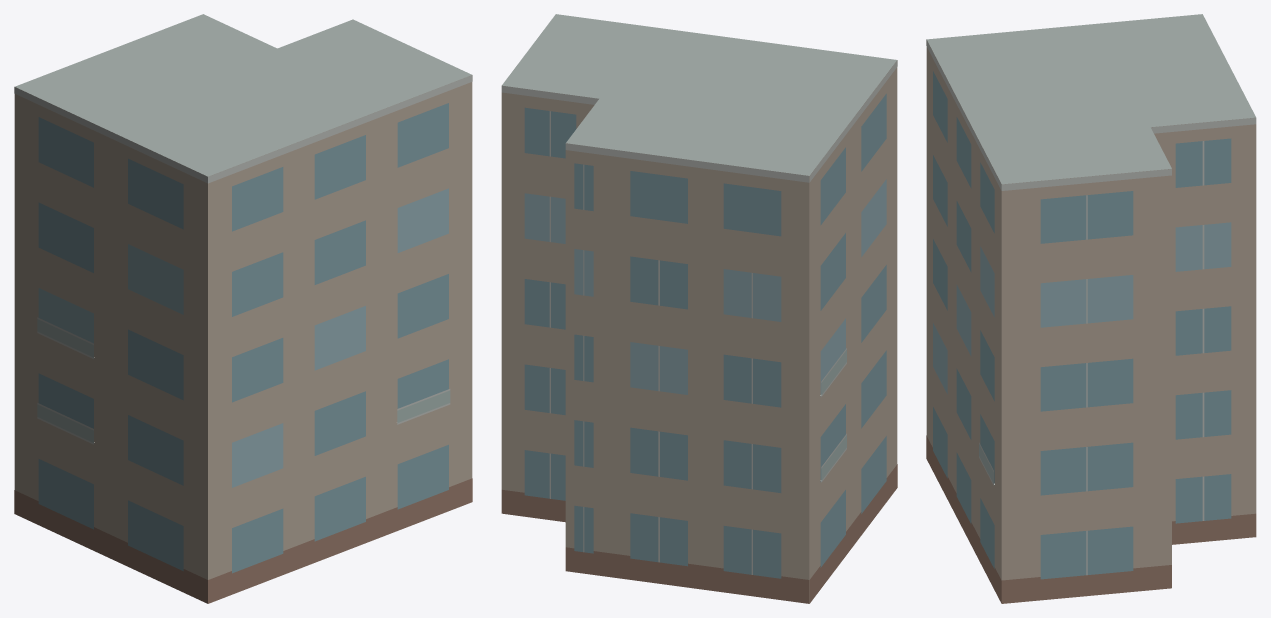
File: survey-upis-33045189.glb
3 views of the same model, side by side, from view 1: azimuth 30°, elevation 25°; view 2: azimuth 150°, elevation 25°; view 3: azimuth 270°, elevation 25° (orthographic). The views are drawn at different scales.
Visible parts, largest first — view 1: survey-upis-33045189.tmp; view 2: survey-upis-33045189.tmp; view 3: survey-upis-33045189.tmp.
Boxes of the visible parts, x1,y1,x2,y2 form: survey-upis-33045189.tmp: [14, 14, 472, 603]; survey-upis-33045189.tmp: [501, 14, 897, 603]; survey-upis-33045189.tmp: [926, 14, 1256, 603].
Size of the model in its own units: 13.29 by 15.25 by 10.87.
